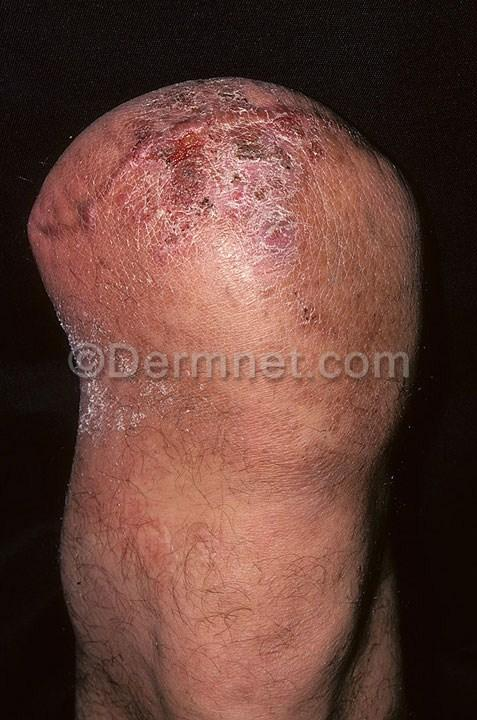Eczema: (120, 89, 329, 274)
